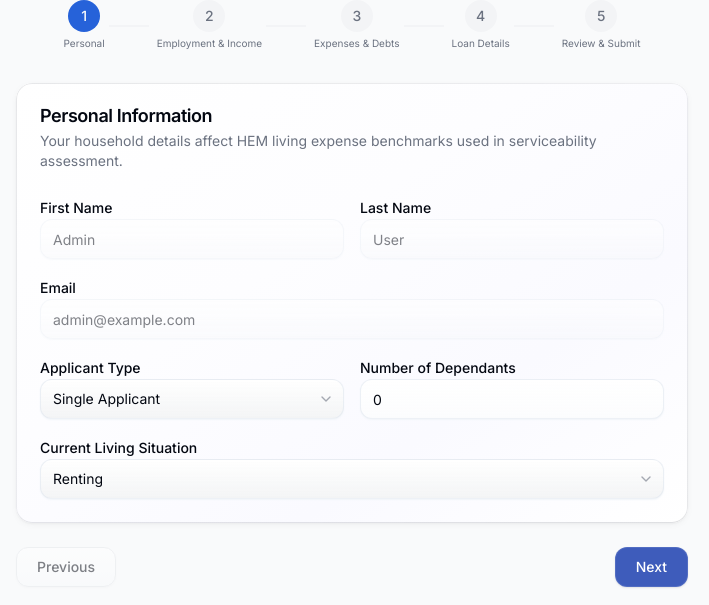
Test: ApplicationForm › shows validation errors when required fields are invalid on step 2
The width and height of the screenshot is (709, 605).
Navigate to step 2
Click the button "Next" at (651, 567), box [615,547,688,587]
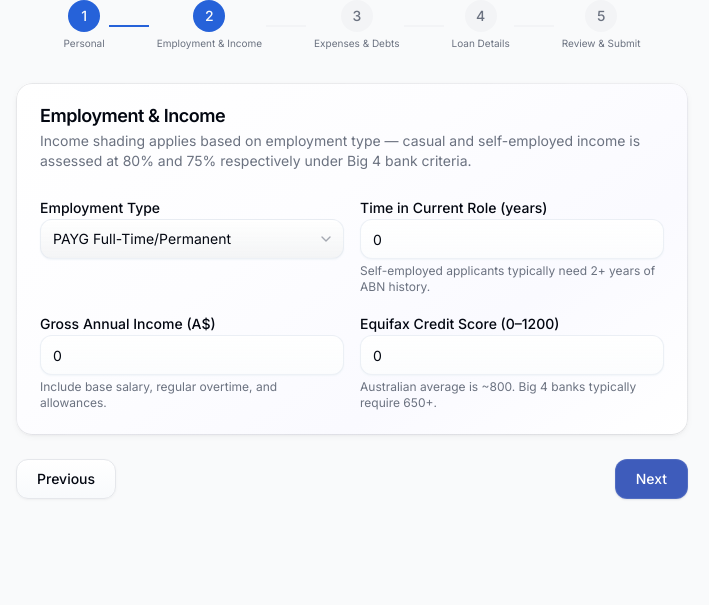
Result: the heading "Employment & Income" is shown at [40,105,225,126]
Clear annual income (set to empty/0 which is invalid since min is 1)
Clear the number field labelled "Gross Annual Income (A$)" at (192, 355), box [40,335,344,375]
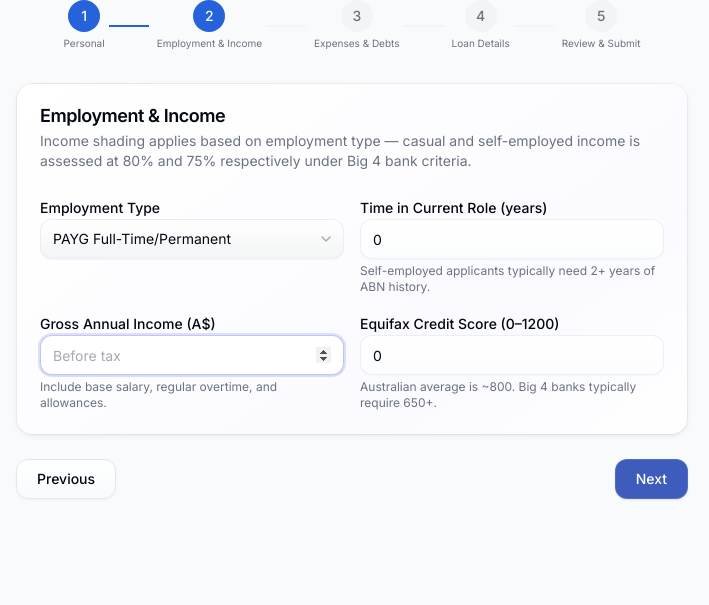
Try to advance - should show validation error
Click the button "Next" at (651, 479), box [615,459,688,499]
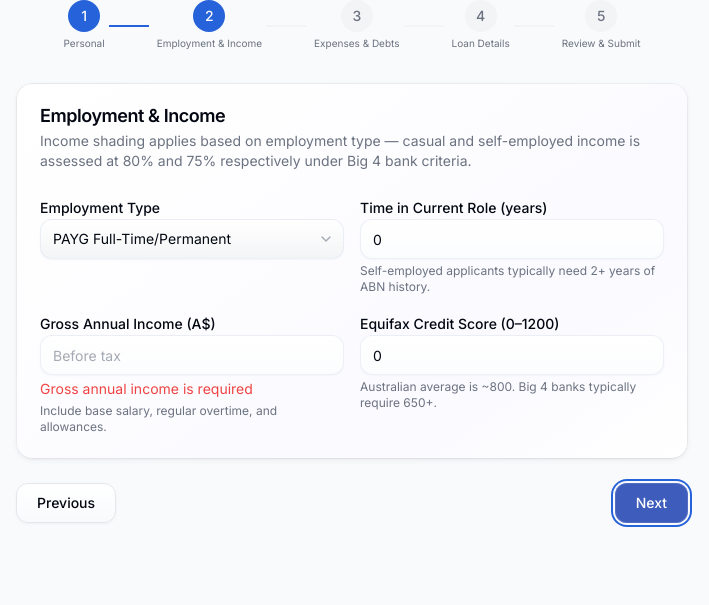
Result: the text "Gross annual income is required" is shown at [40,380,253,397]
